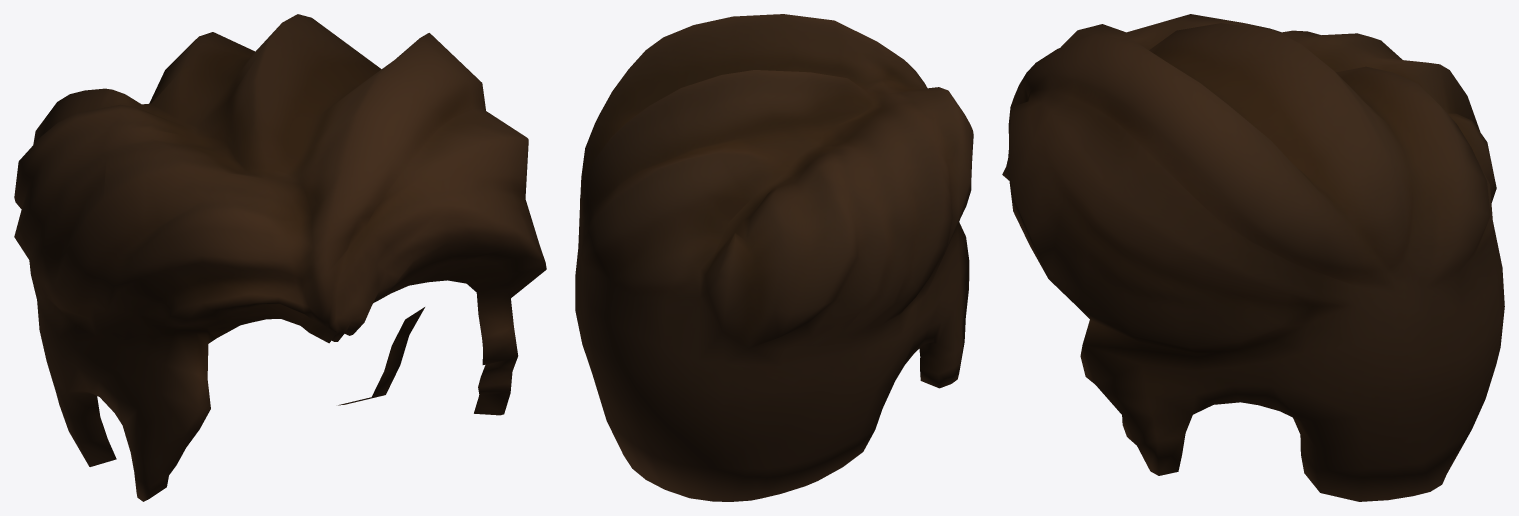
Rendered from parted.glb.
3 renders of one model, left to right at view 1: azimuth 30°, elevation 25°; view 2: azimuth 150°, elevation 25°; view 3: azimuth 270°, elevation 25°, orthographic. The views are drawn at different scales.
Visible parts, largest first — view 1: parted; view 2: parted; view 3: parted.
Boxes of the visible parts, left/top/right/bottom form: parted: left=14, top=14, right=546, bottom=501; parted: left=575, top=14, right=973, bottom=501; parted: left=1002, top=14, right=1504, bottom=501.
Bounding box in the file's own units: 0.1754 × 0.1825 × 0.1857.
Materials: 1 (1 with a texture image).
